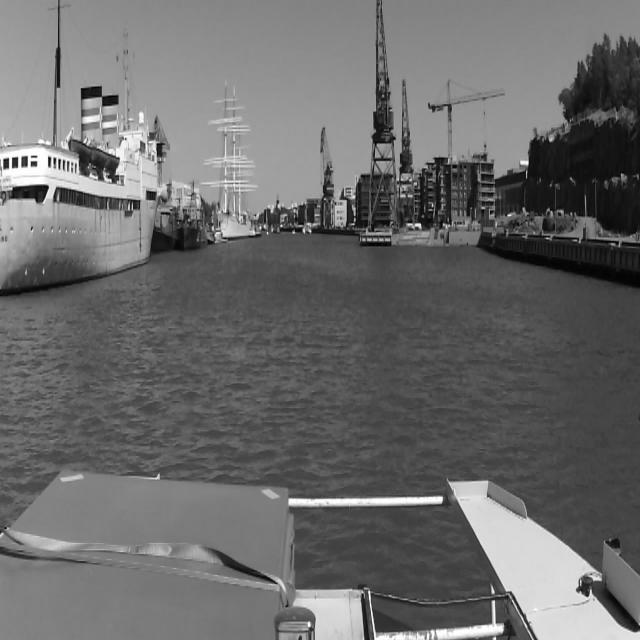ship: (0, 0, 160, 293), (223, 118, 251, 238), (176, 178, 208, 252), (300, 197, 313, 234), (215, 218, 227, 242), (207, 219, 216, 245), (266, 204, 268, 234), (292, 229, 296, 235)
